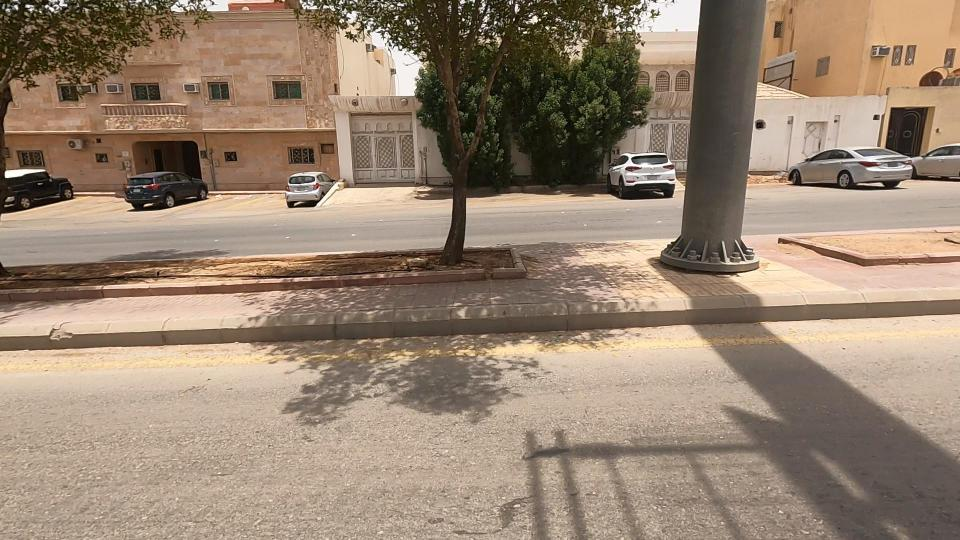CLUTTER_SIDEWALK: (0, 215, 641, 326)
